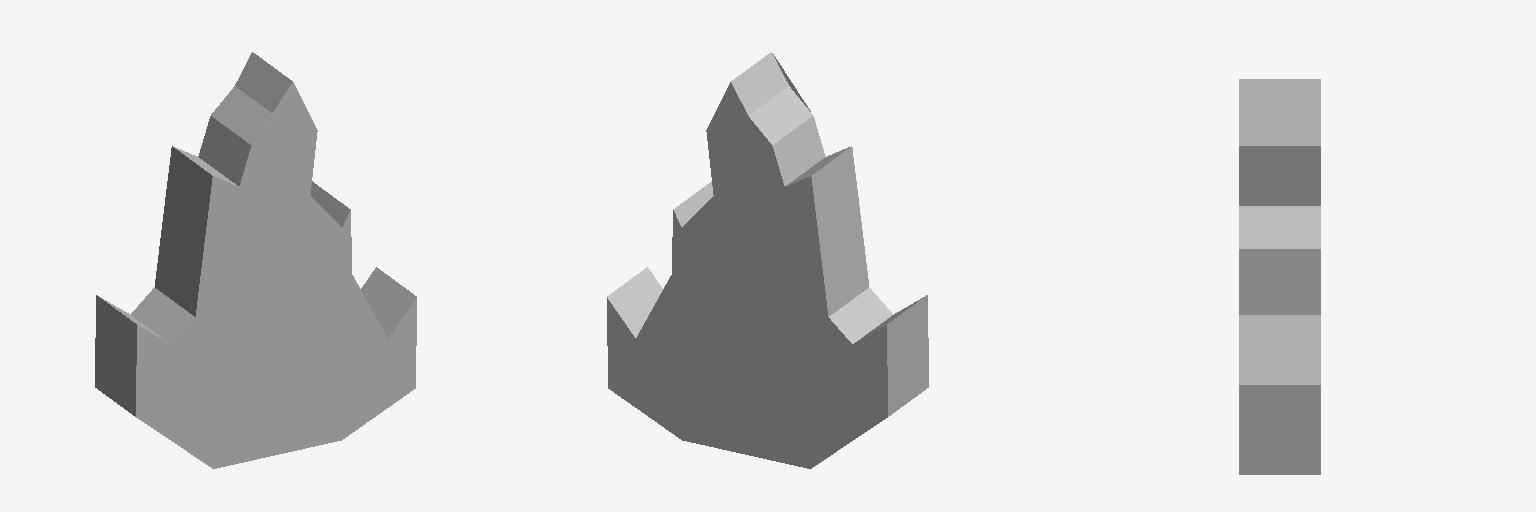
The model's file is roughExplosion.obj.
3 views of the same model, side by side, from view 1: azimuth 30°, elevation 25°; view 2: azimuth 150°, elevation 25°; view 3: azimuth 270°, elevation 25° (orthographic).
Parts seen in each view (by area): view 1: Cube_Cube.002; view 2: Cube_Cube.002; view 3: Cube_Cube.002.
Boxes of the visible parts, x1=… form: Cube_Cube.002: x1=95, y1=52, x2=416, y2=468; Cube_Cube.002: x1=607, y1=52, x2=928, y2=468; Cube_Cube.002: x1=1239, y1=79, x2=1320, y2=474.
Bounding box in the file's own units: 0.4302 × 0.541 × 0.1083.